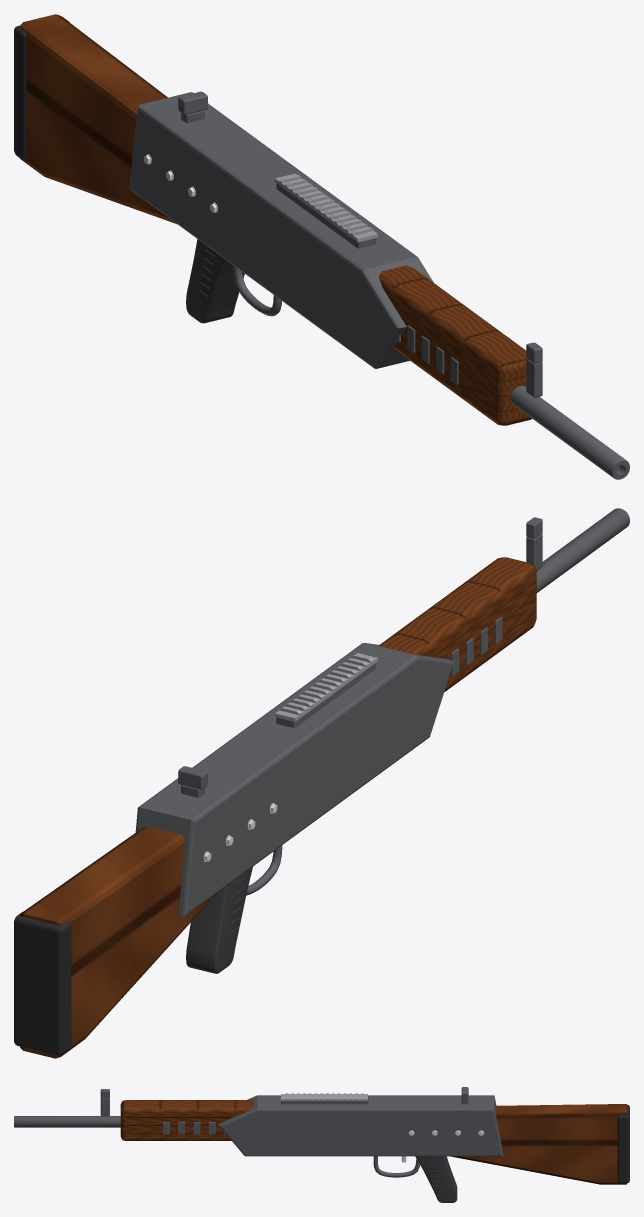
Rendered from shotgun.glb.
3 views of the same model, one above another, from view 1: azimuth 30°, elevation 25°; view 2: azimuth 150°, elevation 25°; view 3: azimuth 270°, elevation 25° (orthographic). The views are drawn at different scales.
Visible parts, largest first — view 1: pump-shotgun, stock; view 2: pump-shotgun, stock; view 3: pump-shotgun, stock.
Part boxes in pixels (x1,y1,x2,y2): pump-shotgun: [14, 17, 629, 479]; stock: [20, 14, 176, 223]; pump-shotgun: [14, 508, 629, 1055]; stock: [20, 826, 216, 1058]; pump-shotgun: [14, 1087, 629, 1202]; stock: [450, 1104, 626, 1184].
Bounding box in the file's own units: 0.0665 × 0.2085 × 1.06.
Materials: 6 (1 with a texture image).
